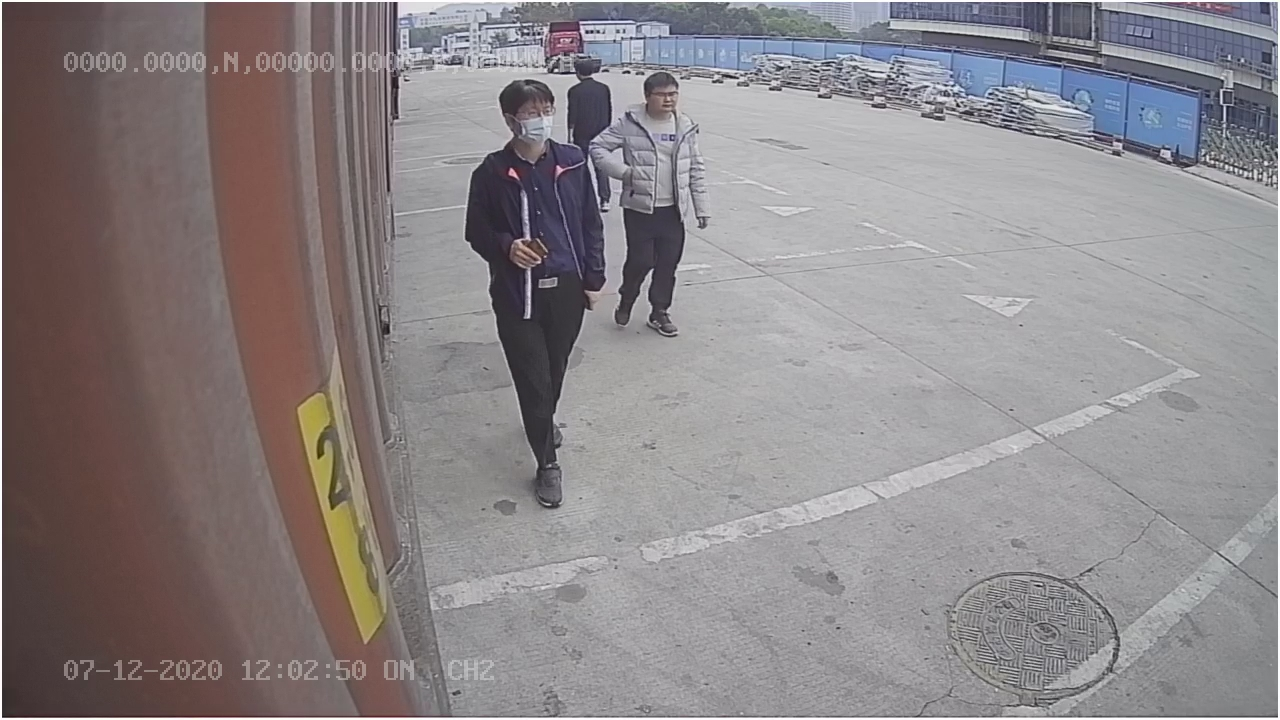person: (463, 79, 608, 508)
